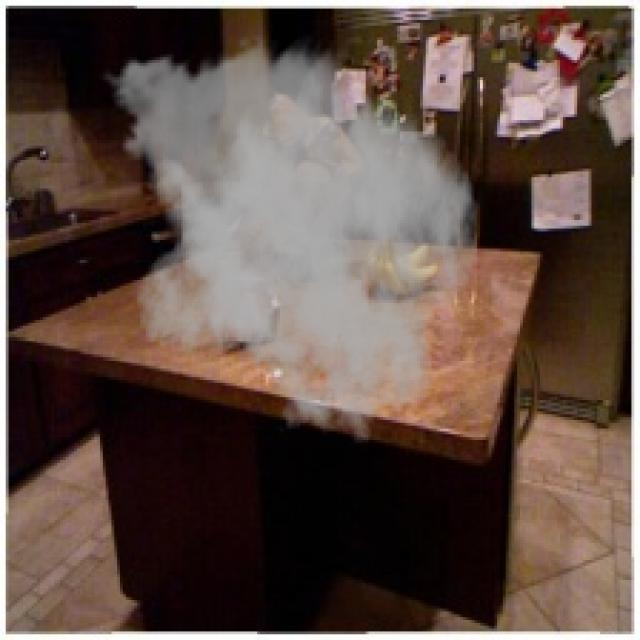smoke: (97, 31, 480, 446)
